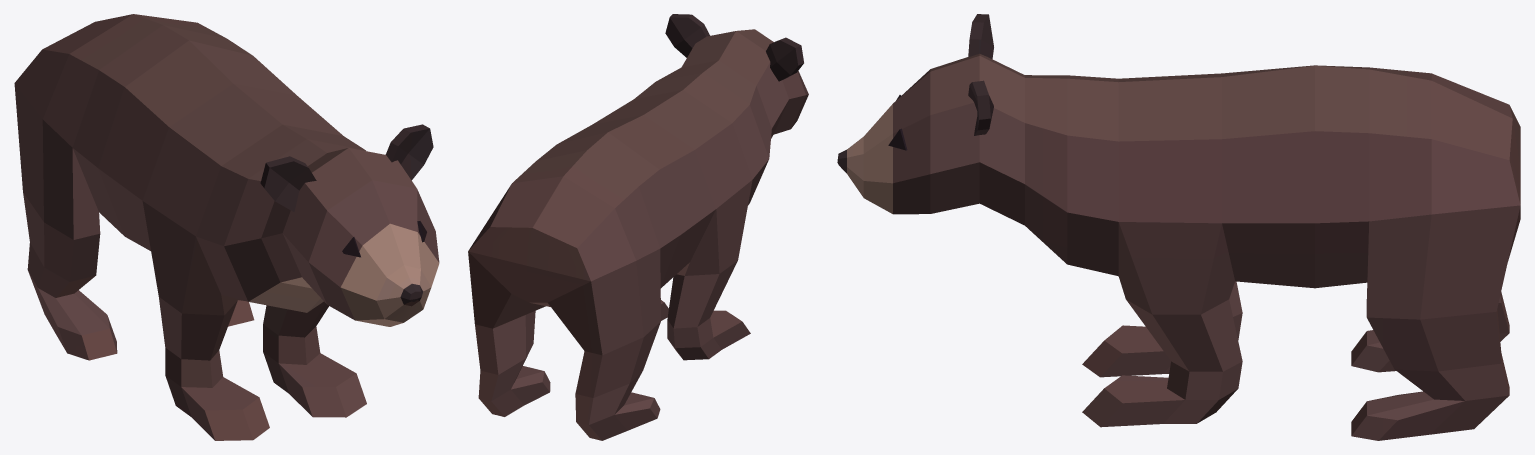
The model's file is dc_78YWzT_R.glb.
3 views of the same model, side by side, from view 1: azimuth 30°, elevation 25°; view 2: azimuth 150°, elevation 25°; view 3: azimuth 270°, elevation 25° (orthographic). The views are drawn at different scales.
Visible parts, largest first — view 1: Geo_BearCub; view 2: Geo_BearCub; view 3: Geo_BearCub.
Part boxes in pixels (x1=…): Geo_BearCub: x1=14, y1=14, x2=439, y2=440; Geo_BearCub: x1=468, y1=14, x2=808, y2=440; Geo_BearCub: x1=837, y1=14, x2=1520, y2=440.
Size of the model in its own units: 35.59 by 58.42 by 106.
Materials: 1 (1 with a texture image).
